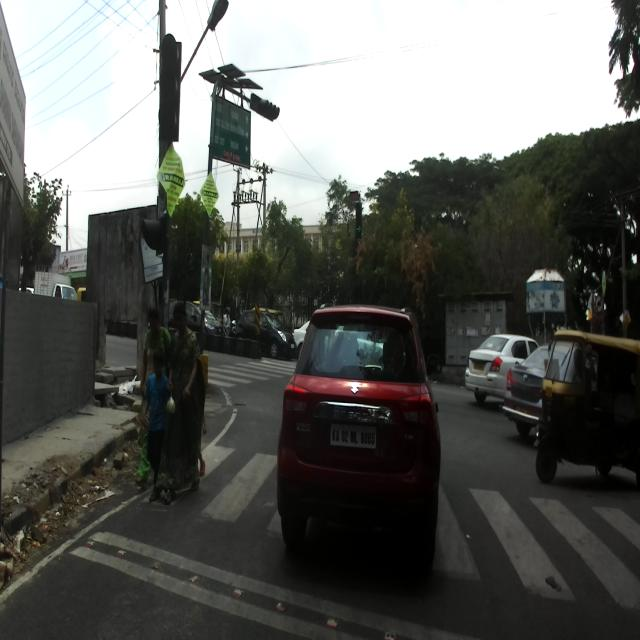auto ahead at: (538, 322, 640, 504)
car ahead at: (278, 301, 440, 570)
traffic signal ahead at: (147, 22, 190, 146), (250, 86, 282, 130)
